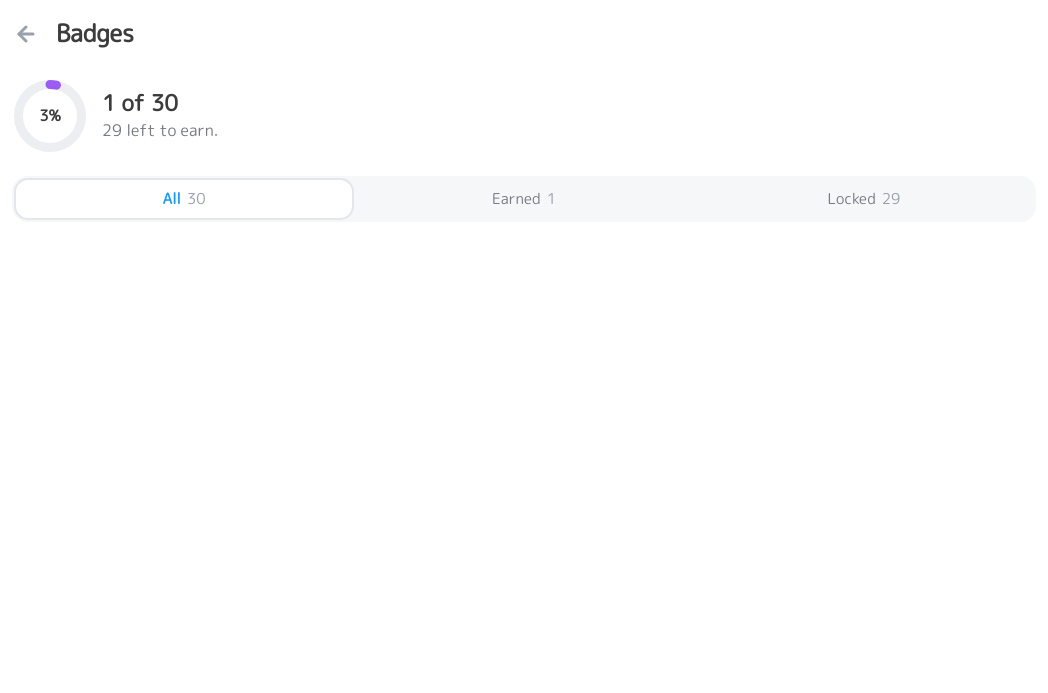
Test: badges screen › filters earned and locked
Click the tab "Earned 1" at (524, 199), box left=356, top=180, right=692, bottom=218
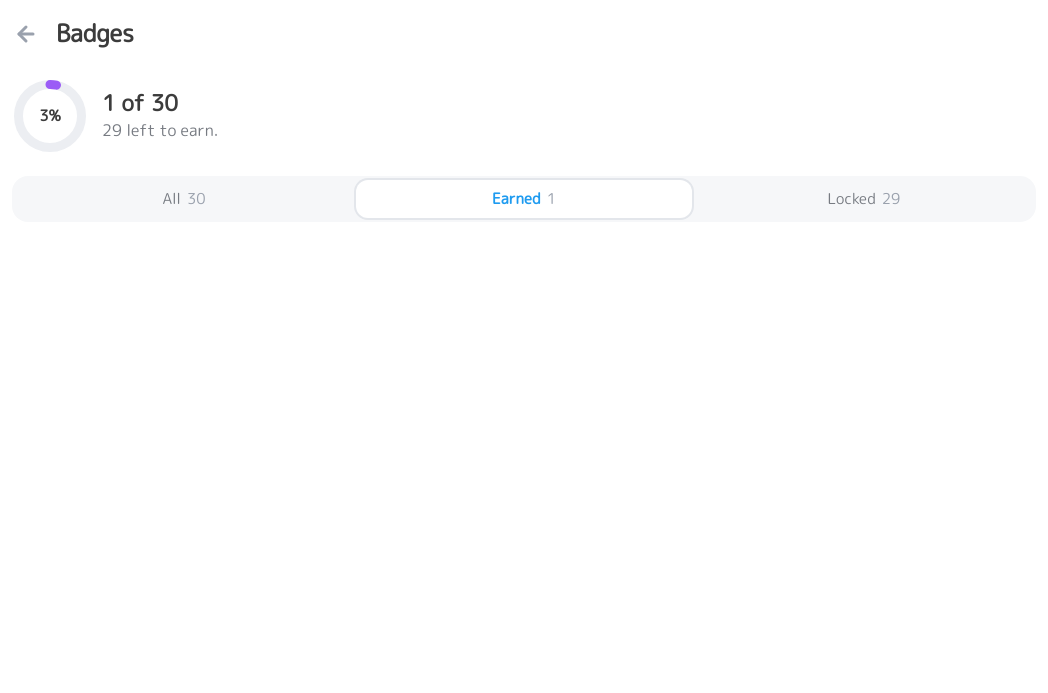
Click the tab "Locked 29" at (864, 199), box left=696, top=180, right=1032, bottom=218
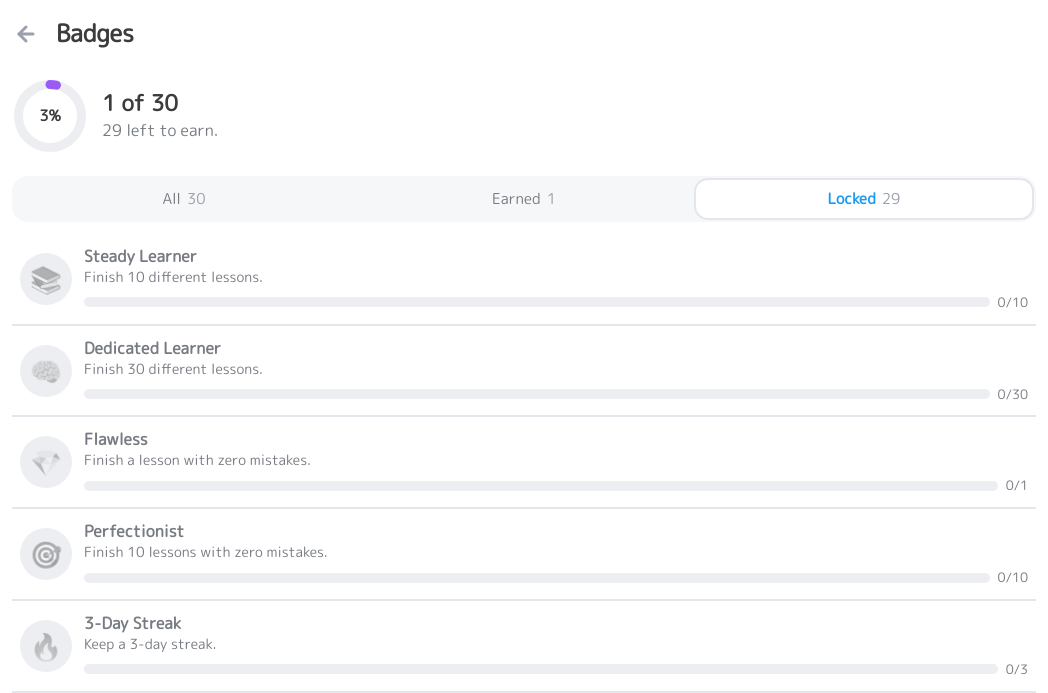
Check: the number of list items is 29
